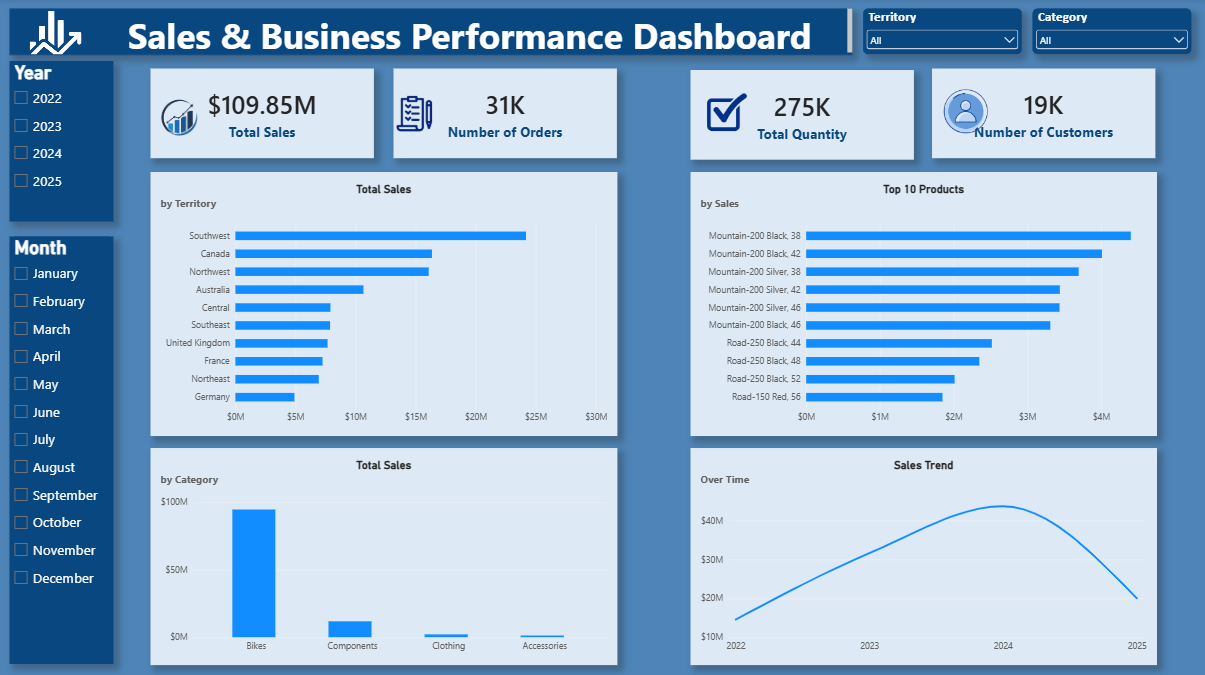

This screenshot's page, from the dashboard's own definition file:
{"tool":"powerbi","page":{"name":"Page 1","canvas":[1920,1080],"ordinal":0},"visuals":[{"type":"card","fields":{"Values":["Sales_Business_Project.Total Sales"]},"box":[240,112.5,355,142.5],"z":1000},{"type":"card","fields":{"Values":["Sales_Business_Project.Total Quantity"]},"box":[1100,115,355,142.5],"z":2000},{"type":"card","fields":{"Values":["Sales_Business_Project.Number of Orders"]},"box":[627.5,112.5,355,142.5],"z":3000},{"type":"card","fields":{"Values":["Sales_Business_Project.Number of Customers"]},"box":[1485,112.5,355,142.5],"z":4000},{"type":"clusteredColumnChart","fields":{"Category":["Sales_Business_Project.Category"],"Y":["Sales_Business_Project.Total Sales"]},"box":[240,715,742.5,345],"z":5000},{"type":"clusteredBarChart","fields":{"Category":["Sales_Business_Project.Territory"],"Y":["Sales_Business_Project.Total Sales"]},"box":[240,277.5,742.5,420],"z":6000},{"type":"lineChart","title":"Sales Trend","fields":{"Category":["Sales_Business_Project.OrderDate.Variation.Date Hierarchy.Year","Sales_Business_Project.OrderDate.Variation.Date Hierarchy.Month"],"Y":["Sales_Business_Project.Total Sales"]},"box":[1100,715,742,345],"z":7000},{"type":"clusteredBarChart","title":"Top 10 Products","fields":{"Category":["Sales_Business_Project.ProductName"],"Y":["Sales_Business_Project.Total Sales"]},"box":[1100,277.5,742,420],"z":8000},{"type":"textbox","box":[16.7,16.7,1340.9,74],"z":8001},{"type":"image","box":[0,17.5,165,72.5],"z":8002},{"type":"slicer","fields":{"Values":["Sales_Business_Project.Territory"]},"box":[1375,17.5,252.5,72.5],"z":8003},{"type":"slicer","fields":{"Values":["Sales_Business_Project.Category"]},"box":[1645,17.5,252.5,72.5],"z":8004},{"type":"slicer","fields":{"Values":["Sales_Business_Project.OrderDate.Variation.Date Hierarchy.Month"]},"box":[17.5,380,165,680],"z":8005},{"type":"slicer","fields":{"Values":["Sales_Business_Project.OrderDate.Variation.Date Hierarchy.Year"]},"box":[17.5,100,165,255],"z":8006},{"type":"image","box":[595,107.5,127.5,152.5],"z":8007},{"type":"image","box":[1122.5,115,72.5,140],"z":8008},{"type":"image","box":[1485,102.5,107.5,155],"z":8009},{"type":"image","box":[240,102.5,90,175],"z":8010}]}

Visuals, with their boxes in screenshot pixels (x1, y1, x2, y2), scaled from the page's 1920x1080 canvas onto the 1205x675 screenshot:
card - Sales_Business_Project.Total Sales: bbox(151, 70, 373, 159)
card - Sales_Business_Project.Total Quantity: bbox(690, 72, 913, 161)
card - Sales_Business_Project.Number of Orders: bbox(394, 70, 617, 159)
card - Sales_Business_Project.Number of Customers: bbox(932, 70, 1155, 159)
clusteredColumnChart - Sales_Business_Project.Category x Sales_Business_Project.Total Sales: bbox(151, 447, 617, 662)
clusteredBarChart - Sales_Business_Project.Territory x Sales_Business_Project.Total Sales: bbox(151, 173, 617, 436)
"Sales Trend" lineChart: bbox(690, 447, 1156, 662)
"Top 10 Products" clusteredBarChart: bbox(690, 173, 1156, 436)
textbox: bbox(10, 10, 852, 57)
image: bbox(0, 11, 104, 56)
slicer - Sales_Business_Project.Territory: bbox(863, 11, 1021, 56)
slicer - Sales_Business_Project.Category: bbox(1032, 11, 1191, 56)
slicer - Sales_Business_Project.OrderDate.Variation.Date Hierarchy.Month: bbox(11, 238, 115, 662)
slicer - Sales_Business_Project.OrderDate.Variation.Date Hierarchy.Year: bbox(11, 62, 115, 222)
image: bbox(373, 67, 453, 162)
image: bbox(704, 72, 750, 159)
image: bbox(932, 64, 999, 161)
image: bbox(151, 64, 207, 173)
